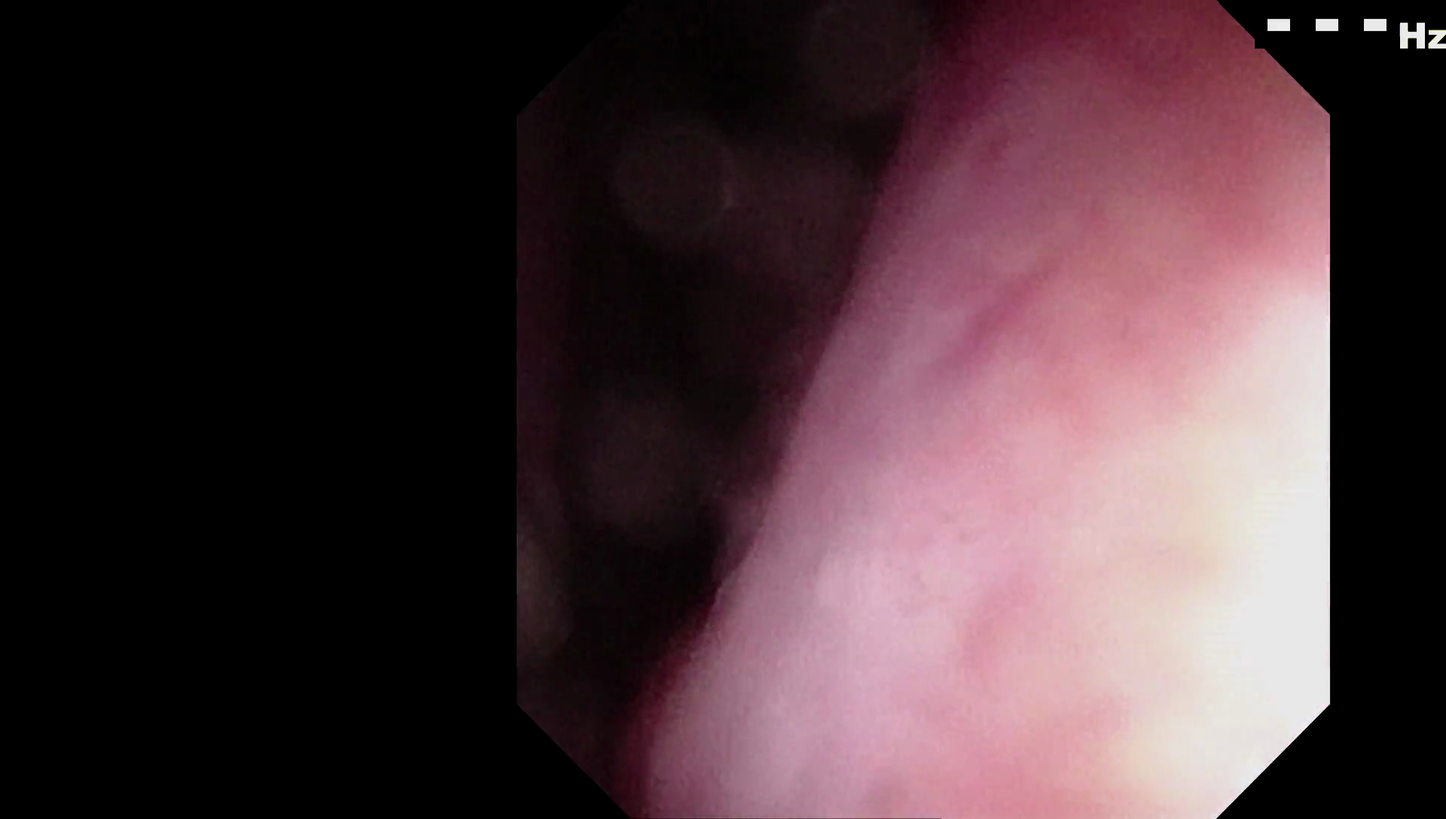close_wall: (915, 193, 1326, 802)
next: (530, 202, 855, 474), (553, 480, 745, 675), (688, 81, 935, 185)
